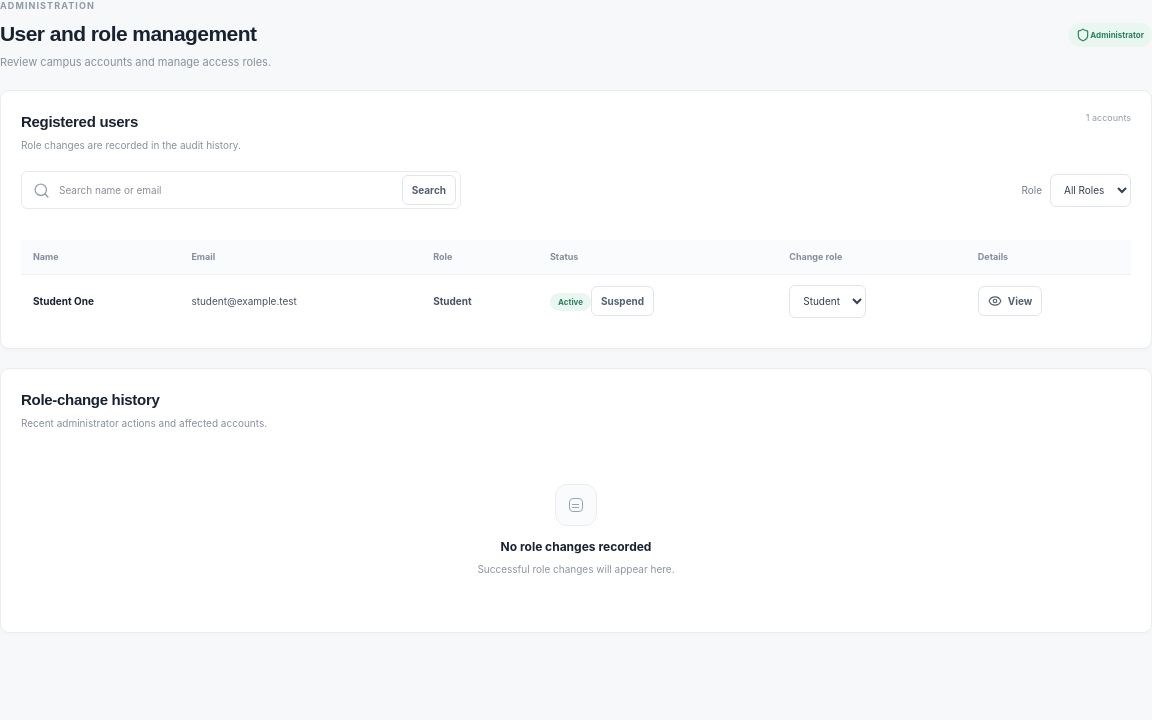
admin user management UI › loads account details without exposing private fields
Step 1. Click the button "View" → (1010, 301), box [978,286,1042,316]
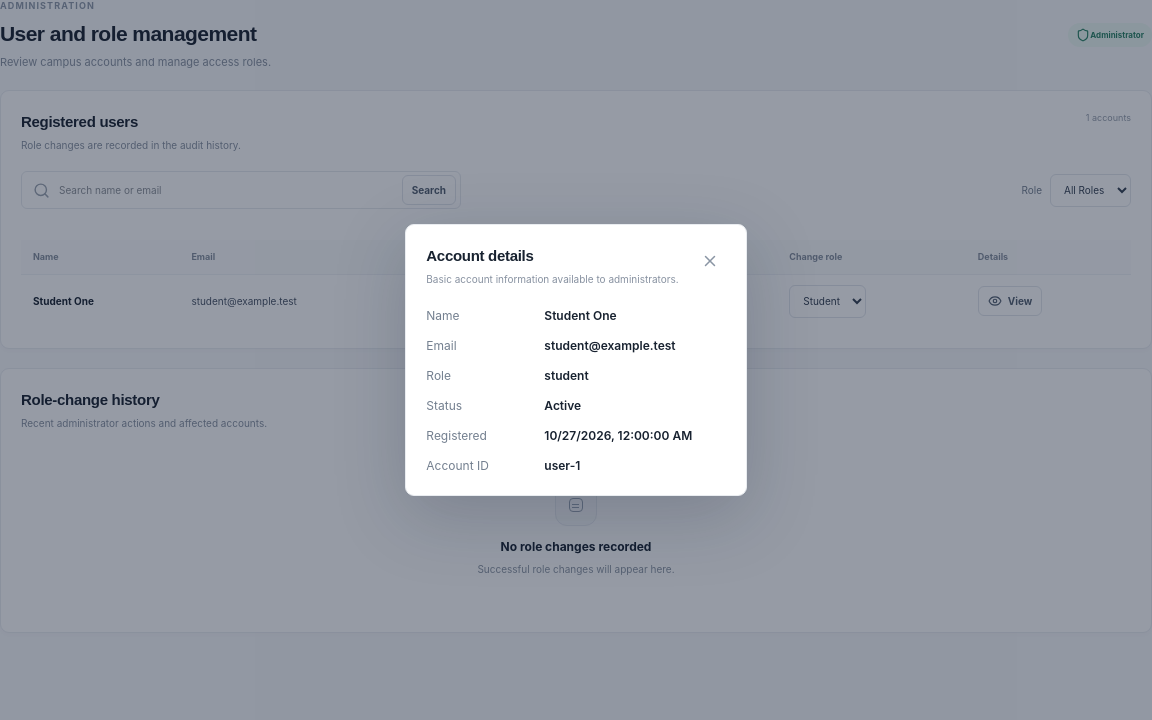
Now the heading "Account details" is shown, box [426,247,534,264]
Now the text "user-1" is shown, box [544,458,580,473]
